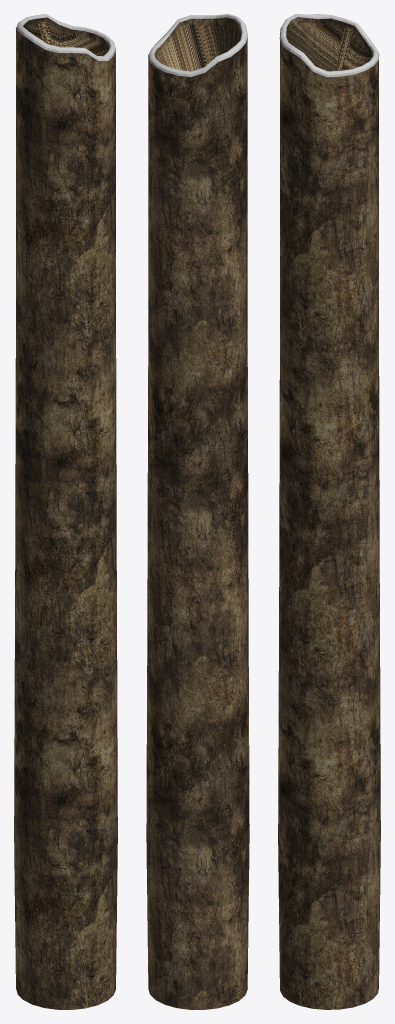
File: tower05.FBX
3 renders of one model, left to right at view 1: azimuth 30°, elevation 25°; view 2: azimuth 210°, elevation 25°; view 3: azimuth 330°, elevation 25°, orthographic.
Visible parts, largest first — view 1: base005; view 2: base005; view 3: base005.
Boxes of the visible parts, x1,y1,x2,y2 form: base005: (14,14,117,1009); base005: (146,14,249,1009); base005: (278,14,380,1009).
Size of the model in its own units: 176 by 1817 by 176.
